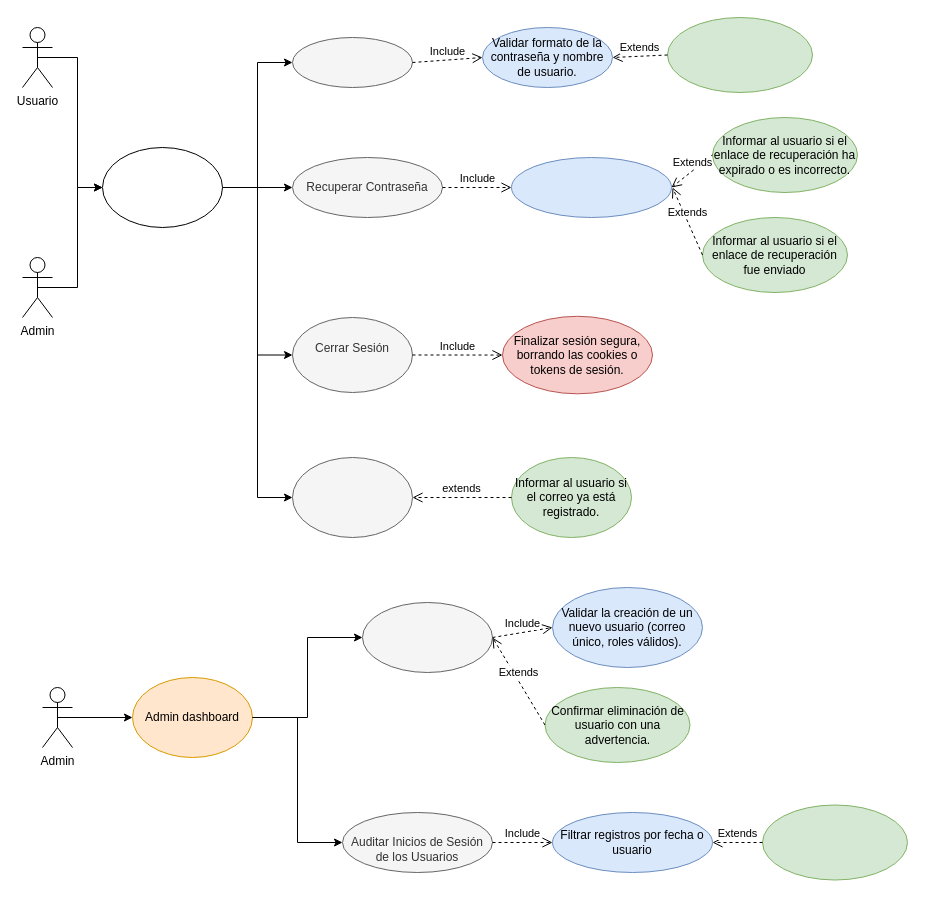
Some shapes in this 925 by 903 pixel diagram are drawn without their labels. Each missing label, with the box of its shape:
Gestionar Usuarios (Crear, Editar, Eliminar): (362, 602, 492, 672)
Iniciar Sesión: (292, 36, 412, 88)
Módulo de Sesión: (102, 146, 222, 228)
Notificar al administrador sobre intentos de acceso fallidos o inusuales: (762, 804, 908, 880)
Recuperar contraseña si el usuario ha olvidado sus credenciales.: (666, 16, 812, 92)
Registrar Cuenta de Usuario: (292, 456, 412, 538)
Verificar existencia del correo electrónico en el sistema: (510, 156, 672, 218)
